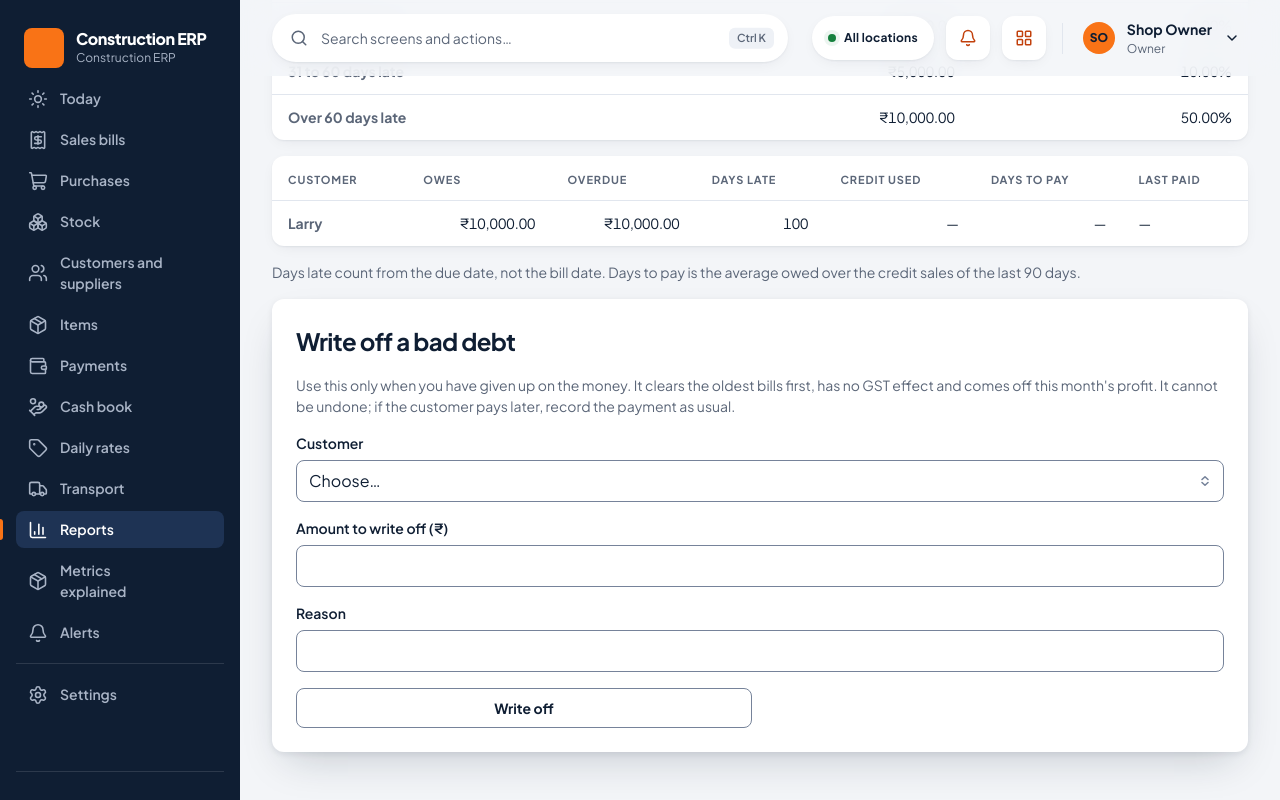
Test case: Receivables › explains a refusal in the shop's words
(page scrolled)
Select "Larry owes ₹10,000.00" in the dropdown labelled "Customer": (760, 481) [296, 460, 1224, 502]
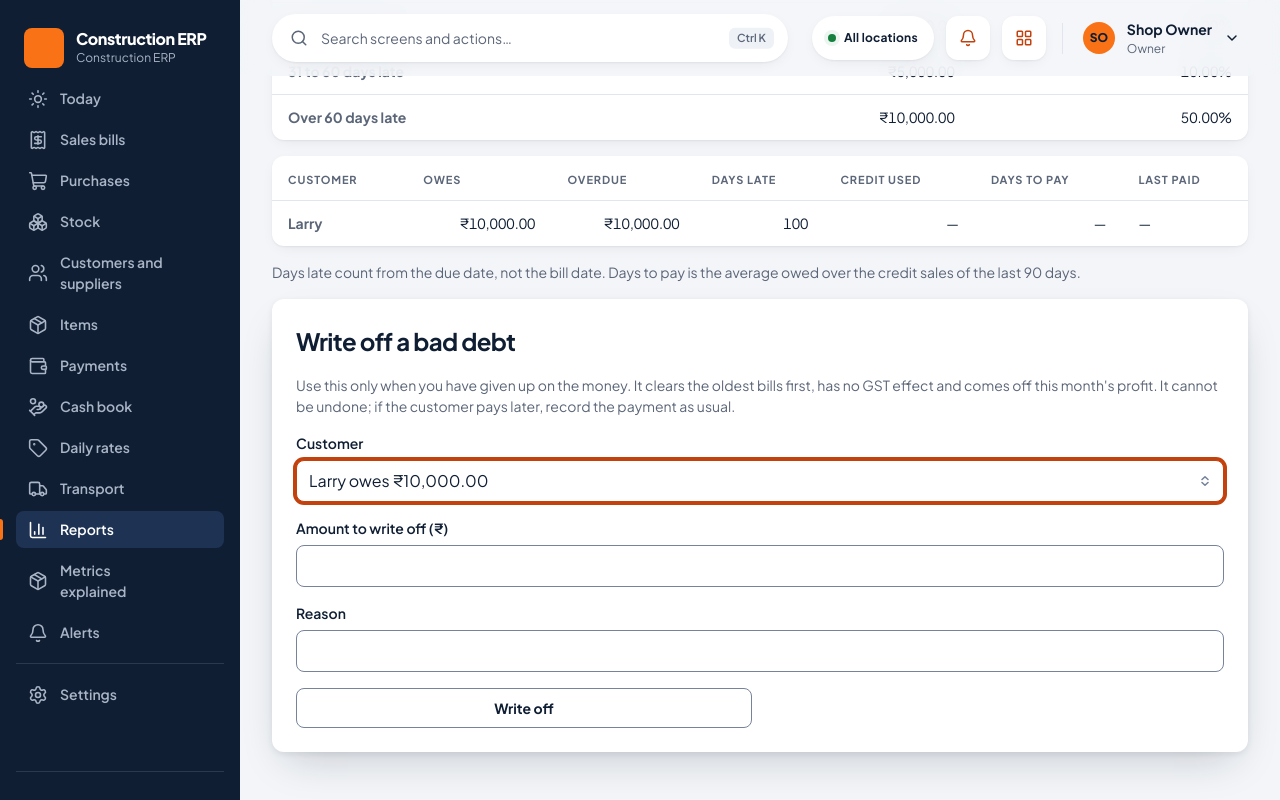
In the field labelled "Amount to write off (₹)": (760, 566) [296, 545, 1224, 587], type "99999"
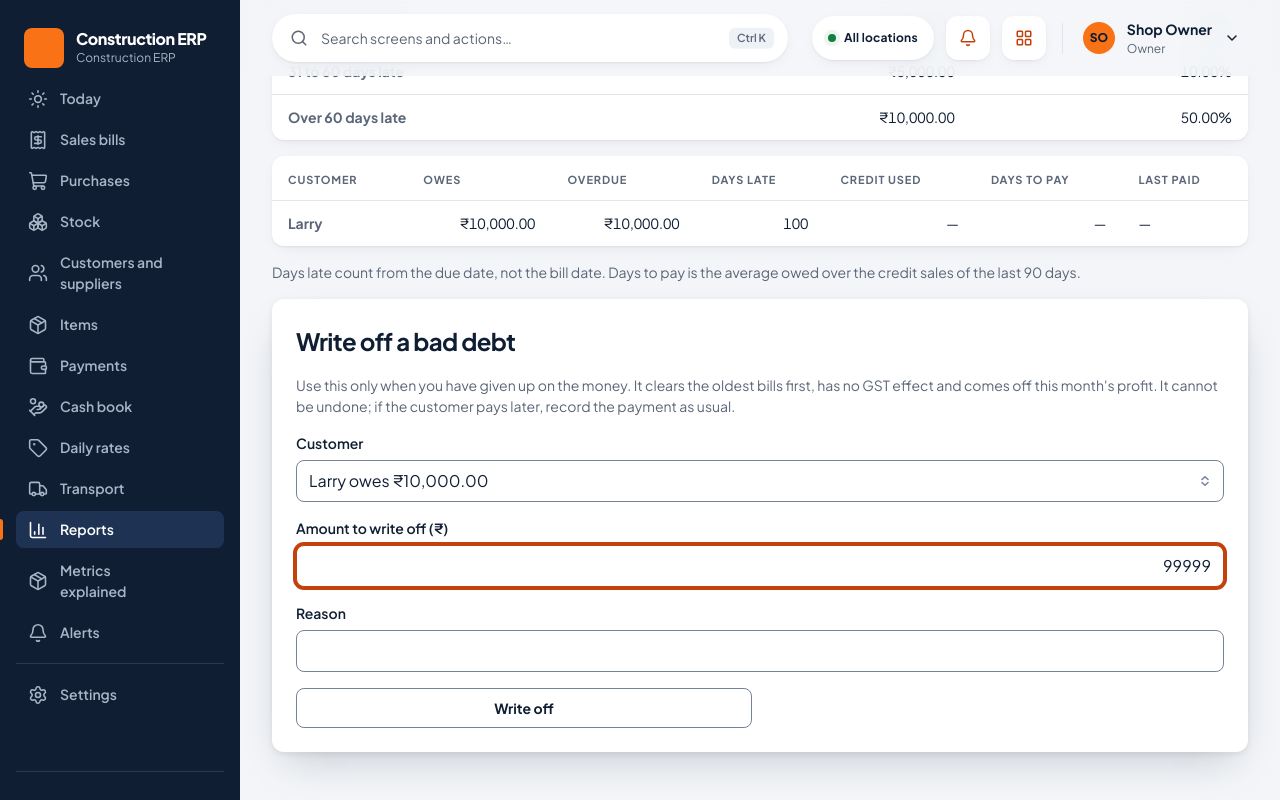
In the field labelled "Reason": (760, 651) [296, 630, 1224, 672], type "gone"
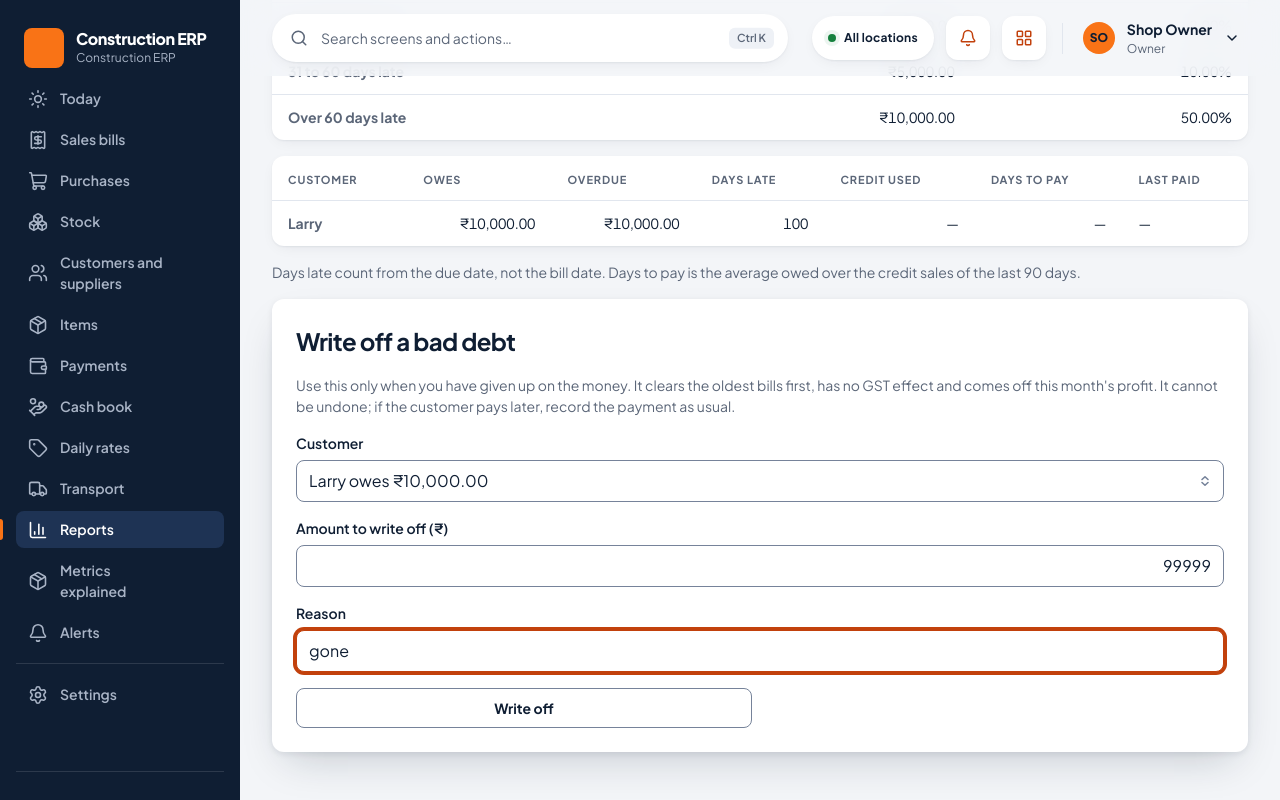
Click the button "Write off": (524, 708) [296, 688, 752, 728]
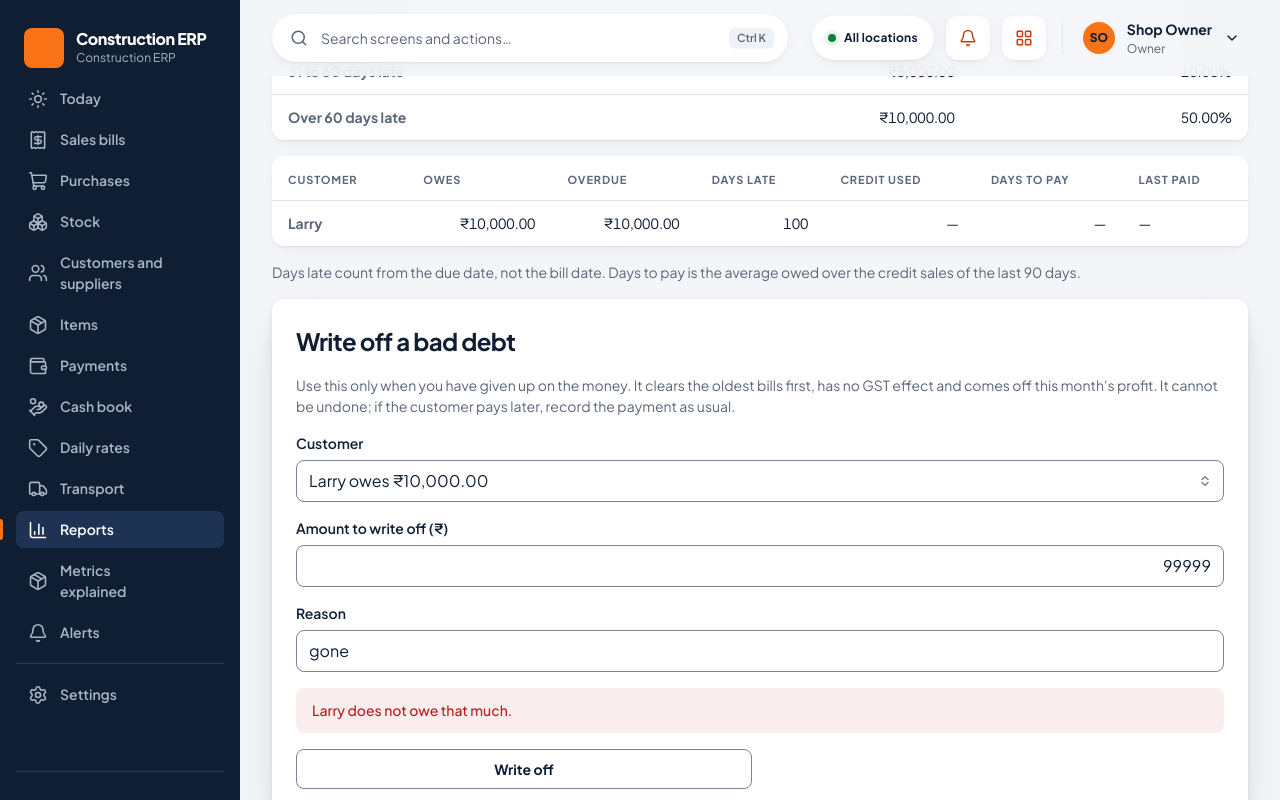
Expected: the text "Larry does not owe that much." is shown, [296, 688, 1224, 733]
